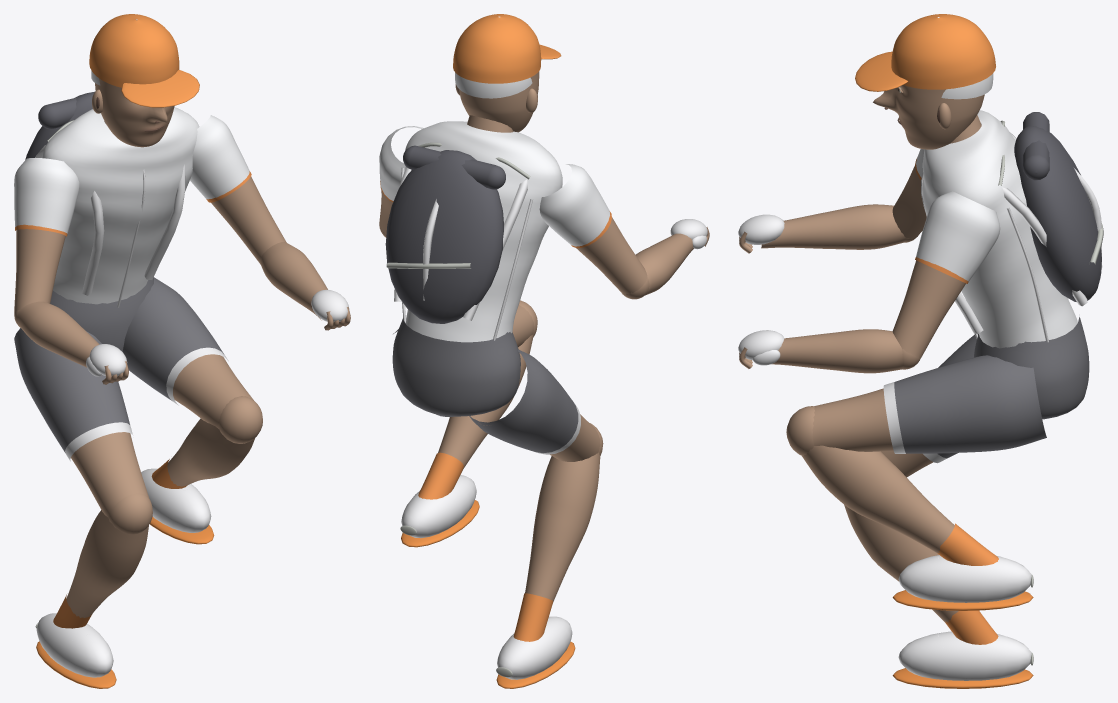
Rendered from courier-char5.glb.
The picture shows the model from 3 angles, left to right: view 1: azimuth 30°, elevation 25°; view 2: azimuth 150°, elevation 25°; view 3: azimuth 270°, elevation 25°; orthographic projection. The views are drawn at different scales.
Visible parts, largest first — view 1: rider-torso, thigh-left, rider-head, thigh-right, upper-arm-left, upper-arm-right, shin-left, foot-left, shin-right, foot-right, forearm-left, anatomical-bicycle-courier (+5 smaller); view 2: rider-torso, anatomical-bicycle-courier, rider-head, shin-left, thigh-left, upper-arm-left, foot-left, shin-right, foot-right, forearm-left, upper-arm-right, hand-left (+1 smaller); view 3: rider-torso, thigh-right, rider-head, upper-arm-right, shin-right, foot-left, foot-right, anatomical-bicycle-courier, forearm-left, forearm-right, shin-left, upper-arm-left (+4 smaller).
Boxes of the visible parts, x1=… form: rider-torso: x1=25, y1=91, x2=199, y2=307; thigh-left: x1=14, y1=328, x2=148, y2=516; rider-head: x1=89, y1=14, x2=199, y2=147; thigh-right: x1=123, y1=277, x2=253, y2=428; upper-arm-left: x1=14, y1=157, x2=79, y2=311; upper-arm-right: x1=190, y1=115, x2=286, y2=263; shin-left: x1=53, y1=510, x2=148, y2=628; foot-left: x1=35, y1=613, x2=116, y2=688; shin-right: x1=151, y1=418, x2=254, y2=488; foot-right: x1=141, y1=468, x2=214, y2=544; forearm-left: x1=17, y1=301, x2=101, y2=375; anatomical-bicycle-courier: x1=50, y1=278, x2=153, y2=351; rider-torso: x1=385, y1=115, x2=562, y2=342; anatomical-bicycle-courier: x1=392, y1=318, x2=520, y2=416; rider-head: x1=453, y1=14, x2=561, y2=132; shin-left: x1=513, y1=452, x2=600, y2=641; thigh-left: x1=469, y1=350, x2=600, y2=461; upper-arm-left: x1=539, y1=164, x2=647, y2=294; foot-left: x1=496, y1=616, x2=575, y2=688; shin-right: x1=418, y1=334, x2=533, y2=499; foot-right: x1=400, y1=475, x2=479, y2=547; forearm-left: x1=635, y1=233, x2=693, y2=295; upper-arm-right: x1=379, y1=126, x2=423, y2=234; hand-left: x1=670, y1=219, x2=709, y2=249; rider-torso: x1=921, y1=110, x2=1103, y2=348; thigh-right: x1=812, y1=355, x2=1046, y2=453; rider-head: x1=855, y1=14, x2=995, y2=149; upper-arm-right: x1=892, y1=191, x2=1000, y2=358; shin-right: x1=802, y1=445, x2=998, y2=565; foot-left: x1=892, y1=631, x2=1033, y2=688; foot-right: x1=892, y1=555, x2=1033, y2=610; anatomical-bicycle-courier: x1=974, y1=317, x2=1089, y2=419; forearm-left: x1=761, y1=204, x2=905, y2=249; forearm-right: x1=771, y1=329, x2=902, y2=373; shin-left: x1=844, y1=504, x2=998, y2=644; upper-arm-left: x1=892, y1=149, x2=926, y2=238.
Size of the model in its own units: 0.6252 by 1.39 by 0.6676.
